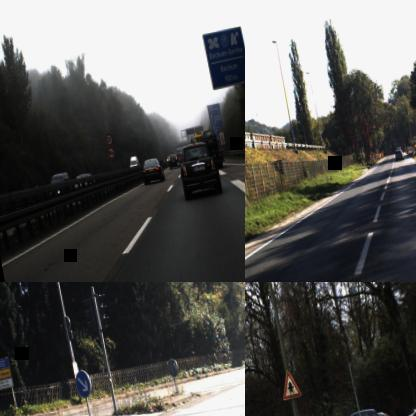keep right: (73, 367, 93, 398)
no overtaking: (105, 145, 116, 160)
priority at next intersection: (278, 367, 302, 400)
speed limit 120: (104, 132, 114, 146)
